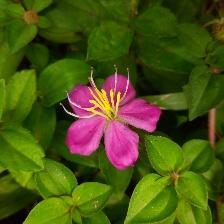malabar melastome: (60, 62, 168, 172)
